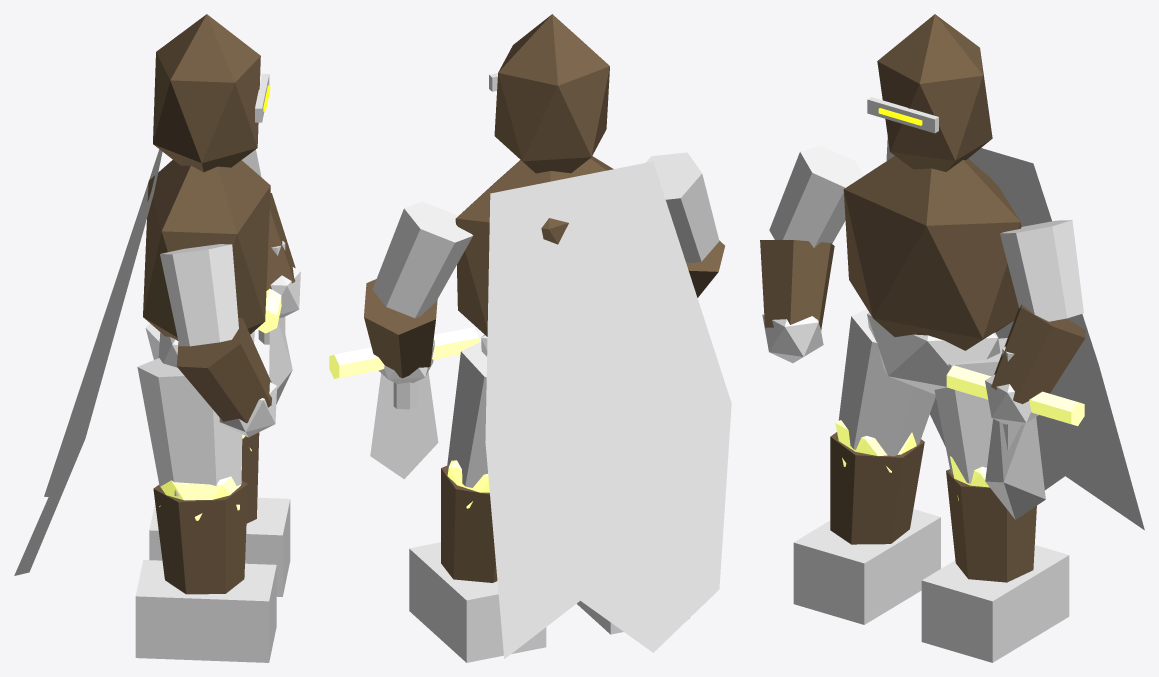
The model's file is fighter-dagger-cloth.glb.
3 renders of one model, left to right at view 1: azimuth 30°, elevation 25°; view 2: azimuth 150°, elevation 25°; view 3: azimuth 270°, elevation 25°, orthographic.
Parts seen in each view (by area): view 1: Breastplate.003, Closed helm.003, Armored boot.006, Thigh.006, Greave.006, Torn crimson mantle.003, Arm.024, Gauntlet.006, Armored boot.007, Gauntlet.007, Knee.006, Greave.007 (+6 smaller); view 2: Torn crimson mantle.003, Closed helm.003, Armored boot.007, Arm.025, Breastplate.003, Greave.007, Broad sword.003, Arm.024, Thigh.007, Gauntlet.007, Sword crossguard.003, Gauntlet.006 (+2 smaller); view 3: Breastplate.003, Torn crimson mantle.003, Closed helm.003, Armored boot.007, Armored boot.006, Greave.006, Thigh.006, Greave.007, Arm.025, Arm.024, Gauntlet.006, Gauntlet.007 (+8 smaller).
Boxes of the visible parts, x1=… form: Breastplate.003: x1=143, y1=160, x2=270, y2=340; Closed helm.003: x1=153, y1=14, x2=260, y2=172; Armored boot.006: x1=135, y1=560, x2=276, y2=662; Thigh.006: x1=137, y1=358, x2=242, y2=496; Greave.006: x1=153, y1=481, x2=247, y2=594; Torn crimson mantle.003: x1=14, y1=149, x2=162, y2=575; Arm.024: x1=160, y1=244, x2=238, y2=346; Gauntlet.006: x1=176, y1=317, x2=271, y2=423; Armored boot.007: x1=149, y1=497, x2=290, y2=596; Gauntlet.007: x1=266, y1=193, x2=295, y2=290; Knee.006: x1=159, y1=467, x2=241, y2=520; Greave.007: x1=241, y1=432, x2=259, y2=523; Torn crimson mantle.003: x1=485, y1=161, x2=731, y2=658; Closed helm.003: x1=494, y1=14, x2=609, y2=173; Armored boot.007: x1=409, y1=542, x2=546, y2=662; Arm.025: x1=372, y1=201, x2=472, y2=318; Breastplate.003: x1=455, y1=156, x2=613, y2=336; Greave.007: x1=441, y1=466, x2=497, y2=582; Broad sword.003: x1=370, y1=371, x2=438, y2=479; Arm.024: x1=645, y1=152, x2=719, y2=262; Thigh.007: x1=447, y1=342, x2=487, y2=487; Gauntlet.007: x1=364, y1=279, x2=437, y2=378; Sword crossguard.003: x1=329, y1=327, x2=479, y2=378; Gauntlet.006: x1=686, y1=240, x2=724, y2=297; Breastplate.003: x1=843, y1=156, x2=1021, y2=350; Torn crimson mantle.003: x1=886, y1=137, x2=1144, y2=530; Closed helm.003: x1=877, y1=14, x2=992, y2=171; Armored boot.007: x1=921, y1=545, x2=1069, y2=662; Armored boot.006: x1=793, y1=509, x2=940, y2=624; Greave.006: x1=830, y1=432, x2=924, y2=544; Thigh.006: x1=838, y1=309, x2=935, y2=456; Greave.007: x1=946, y1=469, x2=1036, y2=582; Arm.025: x1=1000, y1=220, x2=1083, y2=321; Arm.024: x1=769, y1=146, x2=863, y2=247; Gauntlet.006: x1=760, y1=240, x2=834, y2=330; Gauntlet.007: x1=991, y1=304, x2=1085, y2=404.
Size of the model in its own units: 1.81 by 3.19 by 1.87.
